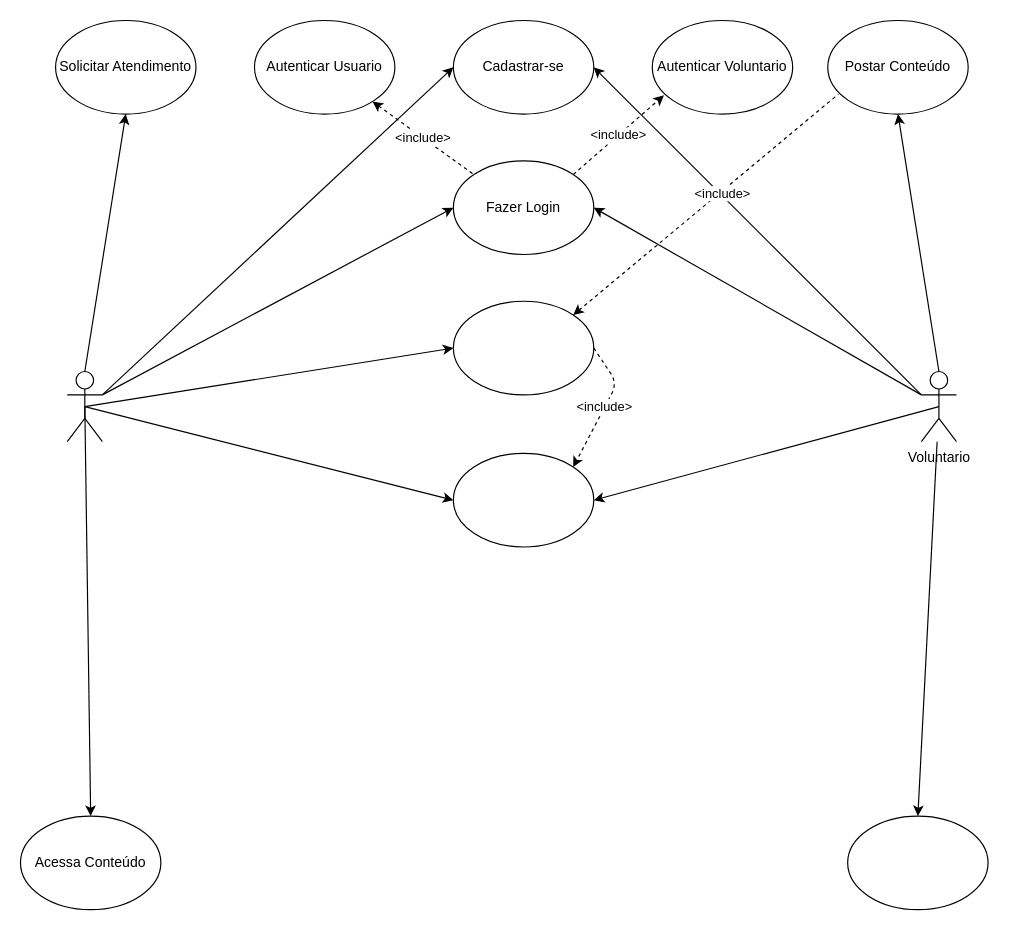
The diagram is 1009 pixels wide and 930 high, and some of its shapes have lost their labels. The shapes that lost their labels are listed below. From the top down, each one's centre as x and y in pixels, then its label:
the point at 523,347: Testes
the point at 84,406: Usuario
the point at 523,499: Resultados
the point at 917,862: Realiza Atendimento
